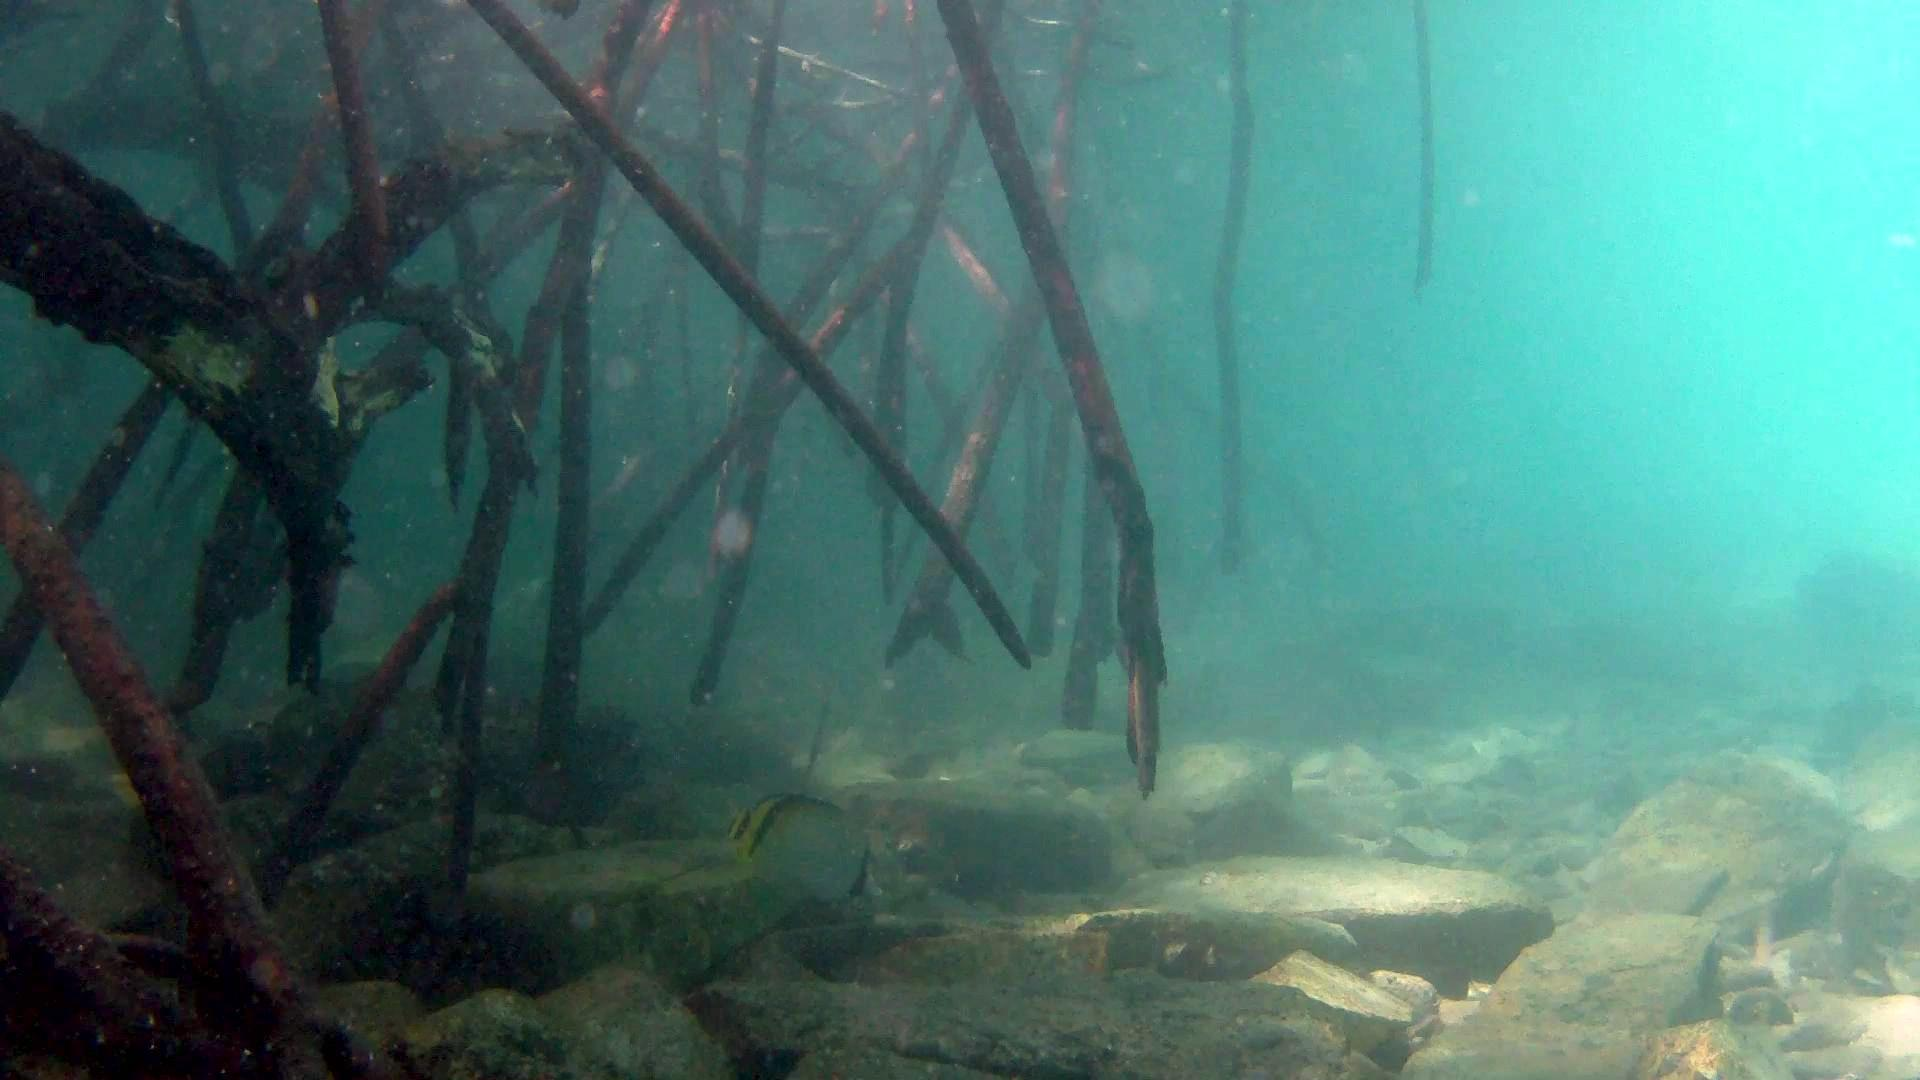chaetodon vagabundus: (721, 789, 889, 909)
